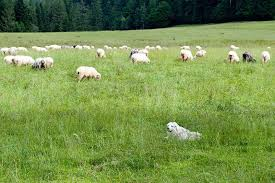sheep: (76, 63, 104, 81), (174, 43, 198, 63), (220, 45, 239, 67), (10, 55, 39, 69), (31, 56, 62, 69), (235, 48, 258, 65), (188, 41, 206, 60), (128, 51, 151, 65), (256, 47, 271, 68), (140, 43, 163, 53), (46, 40, 63, 53), (26, 44, 48, 54), (116, 43, 133, 54), (92, 46, 107, 58), (72, 43, 87, 53), (14, 45, 28, 55), (1, 44, 13, 55), (84, 43, 97, 50)
